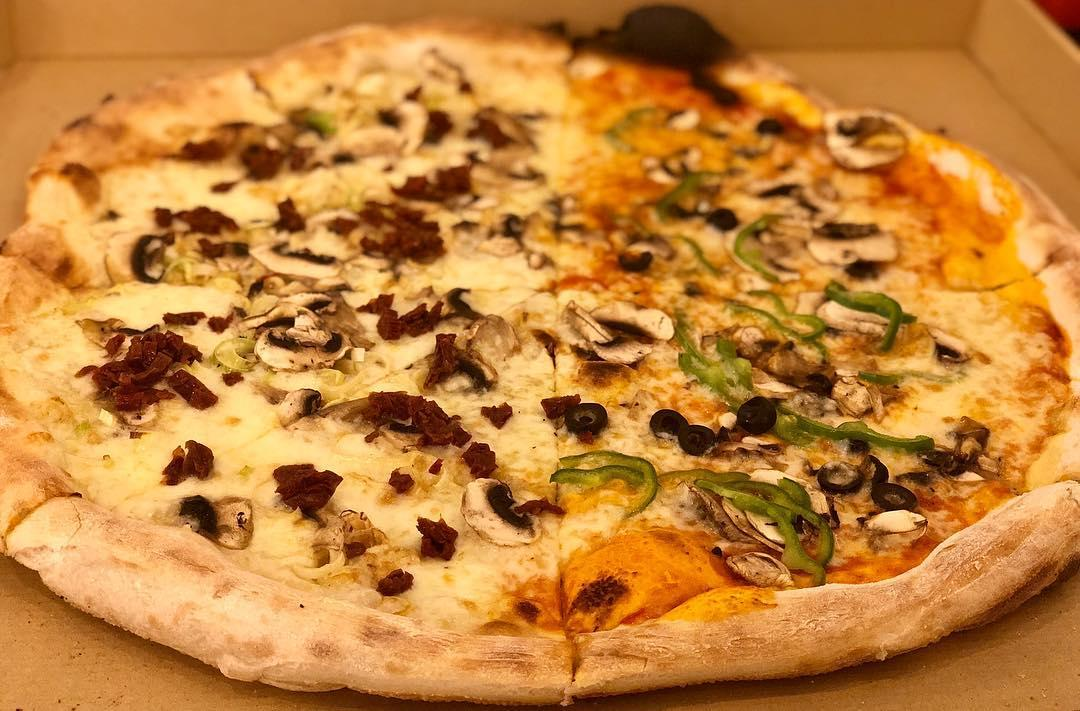Cheese: (930, 289, 1032, 440), (208, 405, 384, 490), (420, 549, 650, 613), (125, 152, 278, 210), (454, 249, 556, 301), (477, 162, 609, 202), (303, 159, 401, 196)
Mushroom: (711, 467, 833, 587), (249, 277, 357, 372), (440, 284, 518, 391), (565, 298, 672, 357), (463, 480, 536, 546), (343, 102, 427, 157), (825, 109, 900, 167), (808, 219, 899, 263), (757, 176, 845, 219), (192, 490, 252, 553), (251, 238, 343, 277), (105, 228, 164, 286), (655, 480, 704, 531), (482, 106, 542, 144), (283, 385, 322, 429), (423, 47, 465, 83), (932, 325, 969, 365), (488, 212, 526, 238)
Olives: (868, 480, 919, 507), (680, 423, 720, 455), (569, 400, 607, 431), (820, 459, 857, 489), (738, 399, 775, 428), (856, 454, 888, 483), (617, 251, 654, 275), (653, 409, 682, 438), (708, 207, 738, 233)
Peppers: (783, 404, 928, 450), (828, 279, 912, 343), (564, 450, 656, 507), (726, 479, 820, 526), (688, 330, 748, 394), (733, 220, 782, 280), (605, 106, 653, 156), (656, 171, 700, 216)
Pizza: (0, 24, 1080, 711)
